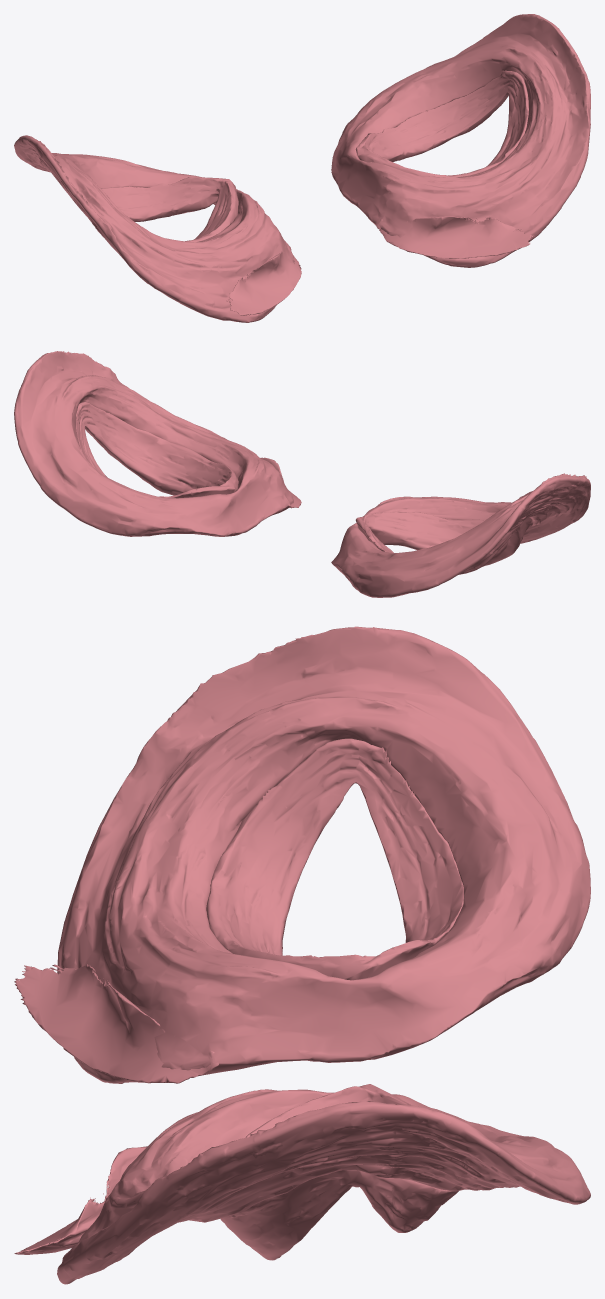
File: orbite-muscles.glb
3 renders of one model, top to bottom at view 1: azimuth 30°, elevation 25°; view 2: azimuth 150°, elevation 25°; view 3: azimuth 270°, elevation 25°, orthographic. The views are drawn at different scales.
Parts seen in each view (by area): view 1: orbiculaire_de_l_il_partie_palpebrale_gauche, orbiculaire_de_l_il_partie_palpebrale_droit, orbiculaire_de_l_il_partie_orbitaire_gauche, orbiculaire_de_l_il_partie_orbitaire_droit, corrugateur_du_sourcil_gauche, corrugateur_du_sourcil_droit; view 2: orbiculaire_de_l_il_partie_palpebrale_gauche, orbiculaire_de_l_il_partie_palpebrale_droit, orbiculaire_de_l_il_partie_orbitaire_gauche, orbiculaire_de_l_il_partie_orbitaire_droit; view 3: orbiculaire_de_l_il_partie_palpebrale_droit, orbiculaire_de_l_il_partie_palpebrale_gauche, orbiculaire_de_l_il_partie_orbitaire_droit, corrugateur_du_sourcil_droit, orbiculaire_de_l_il_partie_orbitaire_gauche, corrugateur_du_sourcil_gauche.
Boxes of the visible parts, <box> form: orbiculaire_de_l_il_partie_palpebrale_gauche: <box>331,14,590,267</box>; orbiculaire_de_l_il_partie_palpebrale_droit: <box>14,135,294,322</box>; orbiculaire_de_l_il_partie_orbitaire_gauche: <box>355,70,528,177</box>; orbiculaire_de_l_il_partie_orbitaire_droit: <box>102,177,238,242</box>; corrugateur_du_sourcil_gauche: <box>376,216,534,258</box>; corrugateur_du_sourcil_droit: <box>227,242,301,315</box>; orbiculaire_de_l_il_partie_palpebrale_gauche: <box>14,351,293,536</box>; orbiculaire_de_l_il_partie_palpebrale_droit: <box>331,473,590,597</box>; orbiculaire_de_l_il_partie_orbitaire_gauche: <box>76,402,238,498</box>; orbiculaire_de_l_il_partie_orbitaire_droit: <box>355,512,533,574</box>; orbiculaire_de_l_il_partie_palpebrale_droit: <box>57,626,590,1083</box>; orbiculaire_de_l_il_partie_palpebrale_gauche: <box>57,1089,590,1284</box>; orbiculaire_de_l_il_partie_orbitaire_droit: <box>206,738,463,980</box>; corrugateur_du_sourcil_droit: <box>14,964,218,1083</box>; orbiculaire_de_l_il_partie_orbitaire_gauche: <box>220,1084,458,1260</box>; corrugateur_du_sourcil_gauche: <box>14,1146,147,1254</box>.
Size of the model in its own units: 103 by 30.59 by 52.02.
